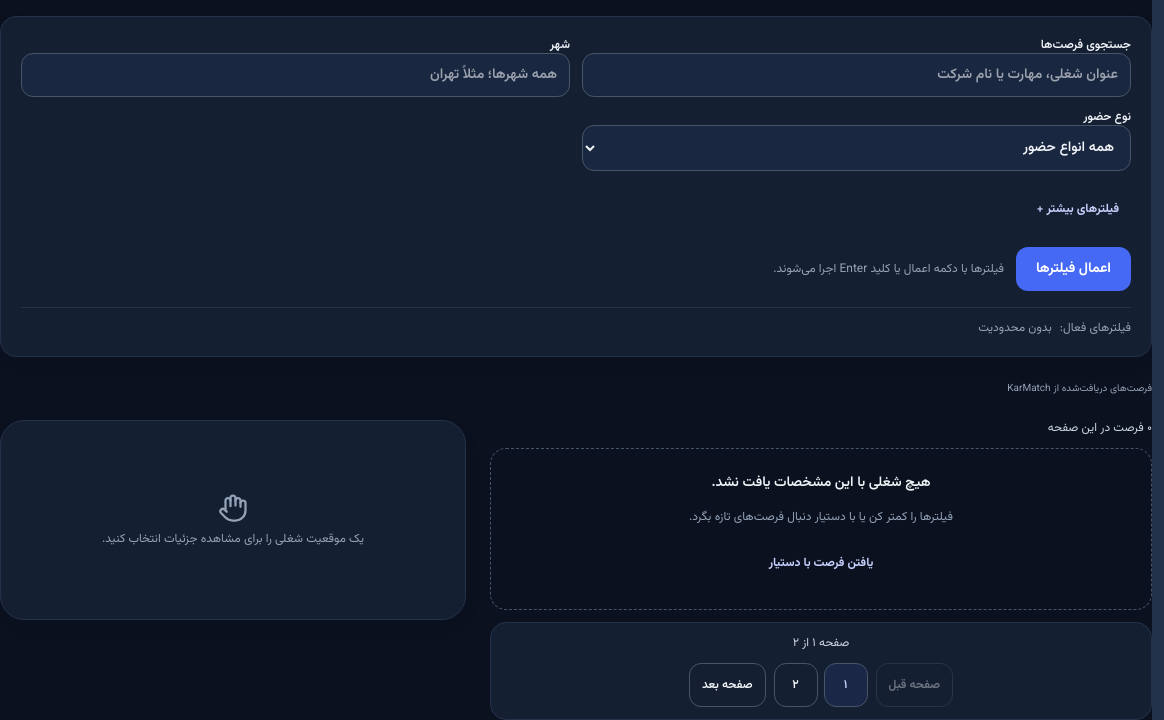
Reference job discovery › keeps failed navigation visible and retries the requested page
(page scrolled)
Expected: the navigation bar named "صفحه‌بندی فرصت‌ها" is shown, [490,622,1152,719]
Click the button "صفحه بعد" at point(727, 685), box [689,663,766,707]
(page scrolled)
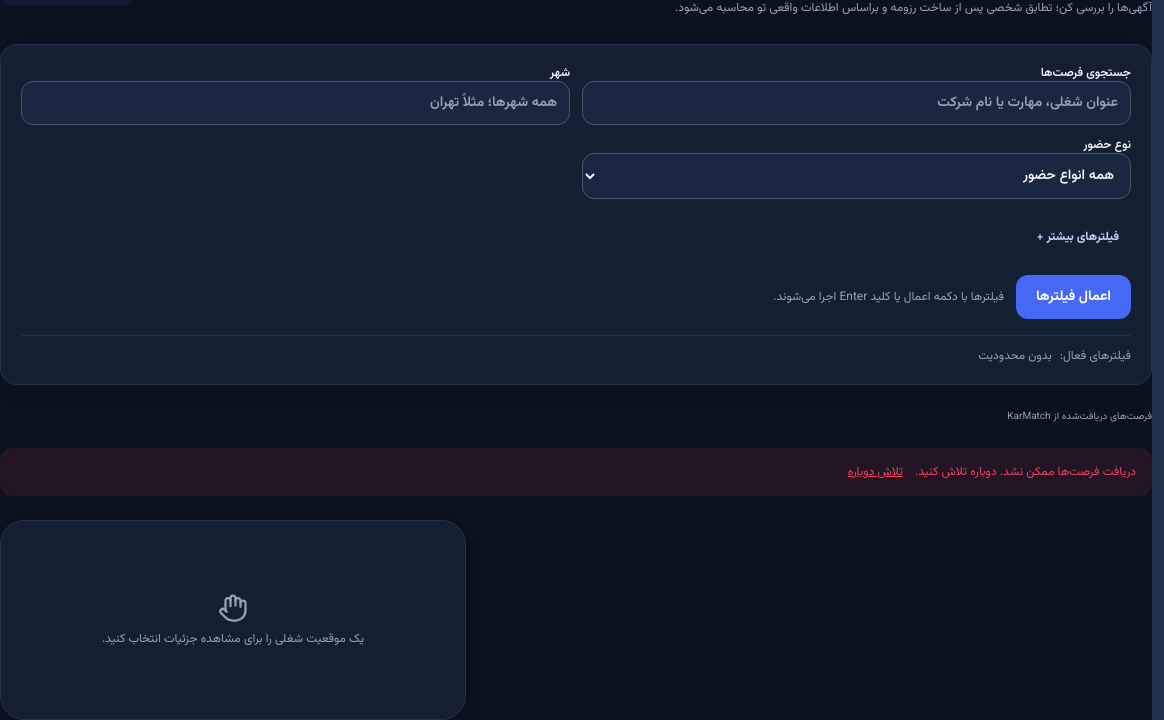
Expected: the message "دریافت فرصت‌ها ممکن نشد. دوباره تلاش کنید. تلاش دوباره" is shown, [0,448,1152,496]
Expected: the text "هیچ شغلی با این مشخصات یافت نشد." is gone
Click the button "تلاش دوباره" at point(875, 472), box [848,464,903,480]
(page scrolled)
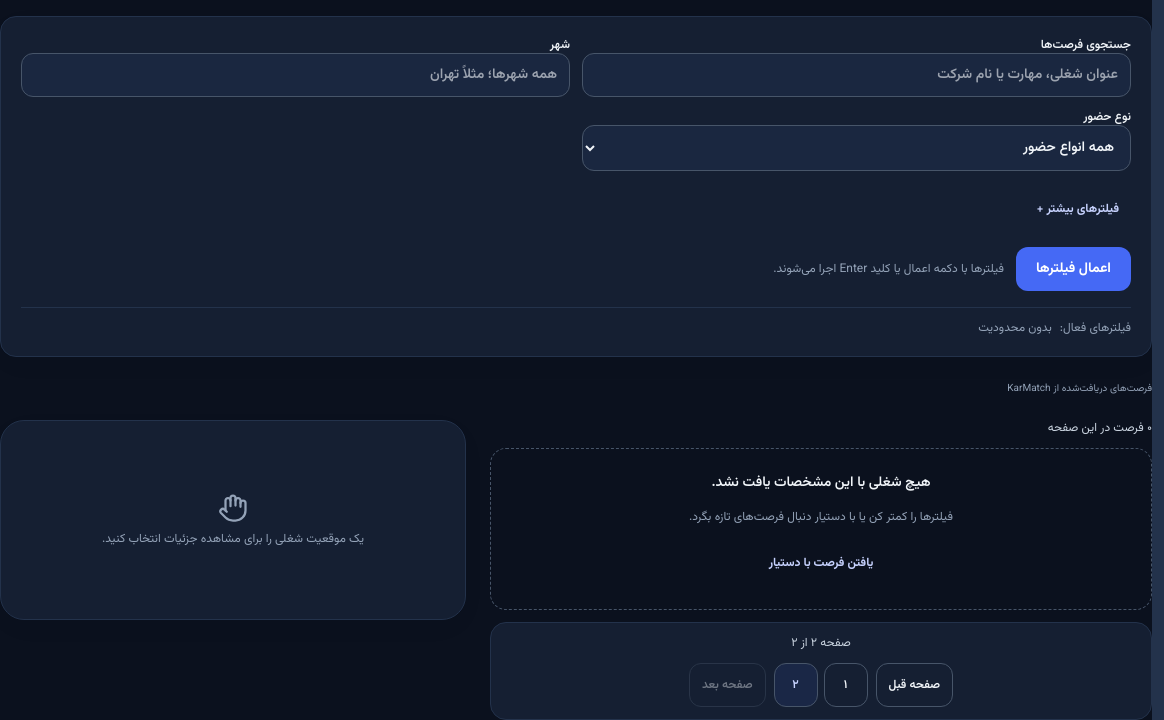
Expected: the button named "صفحه ۲" is shown, [774,663,818,707]
